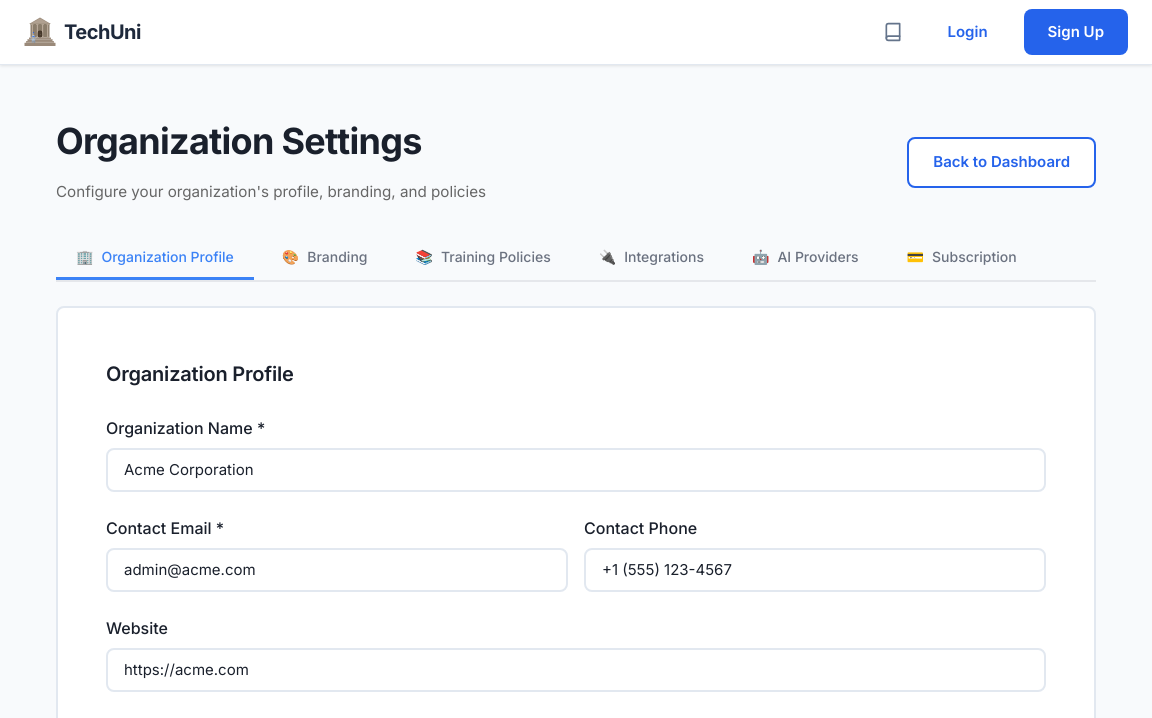
it: OrganizationSettings Component › Settings Display › displays subscription information in subscription tab
Click the button "💳Subscription": click(962, 258) [887,236,1037,280]
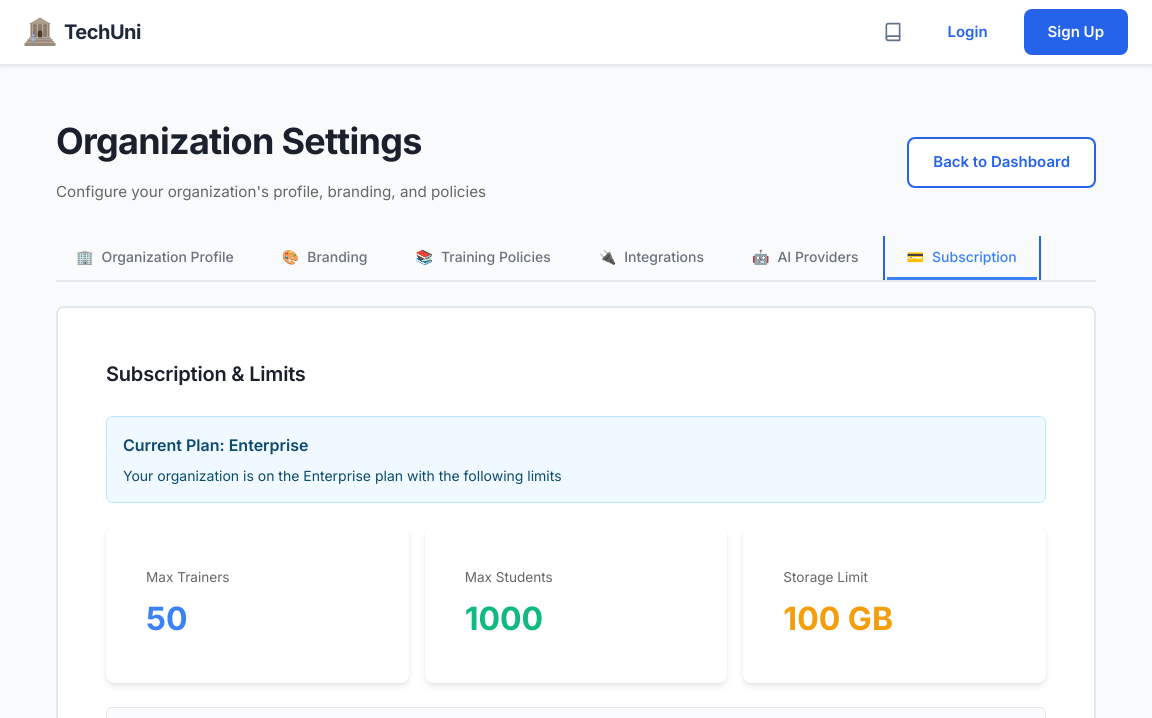
Expected: the text "Current Plan: Enterprise" is shown, [123,435,308,455]
